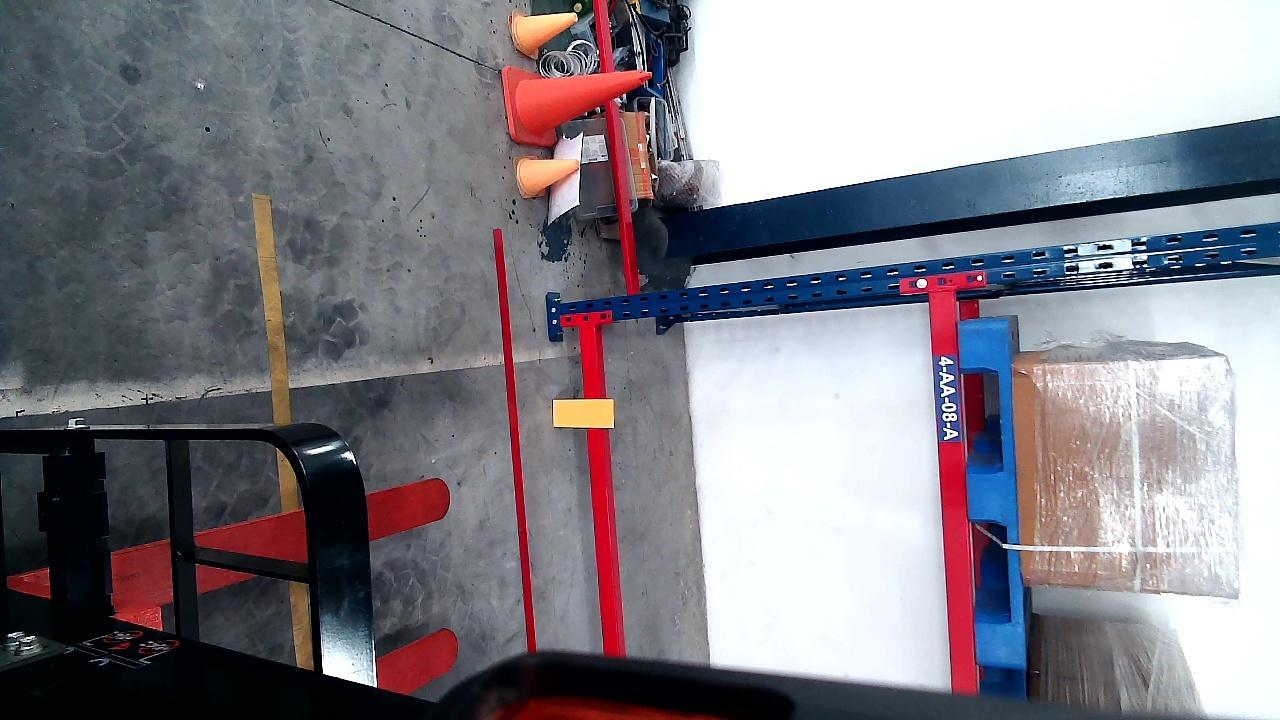red_line: (489, 228, 536, 659)
yellow_line: (255, 190, 314, 672)
